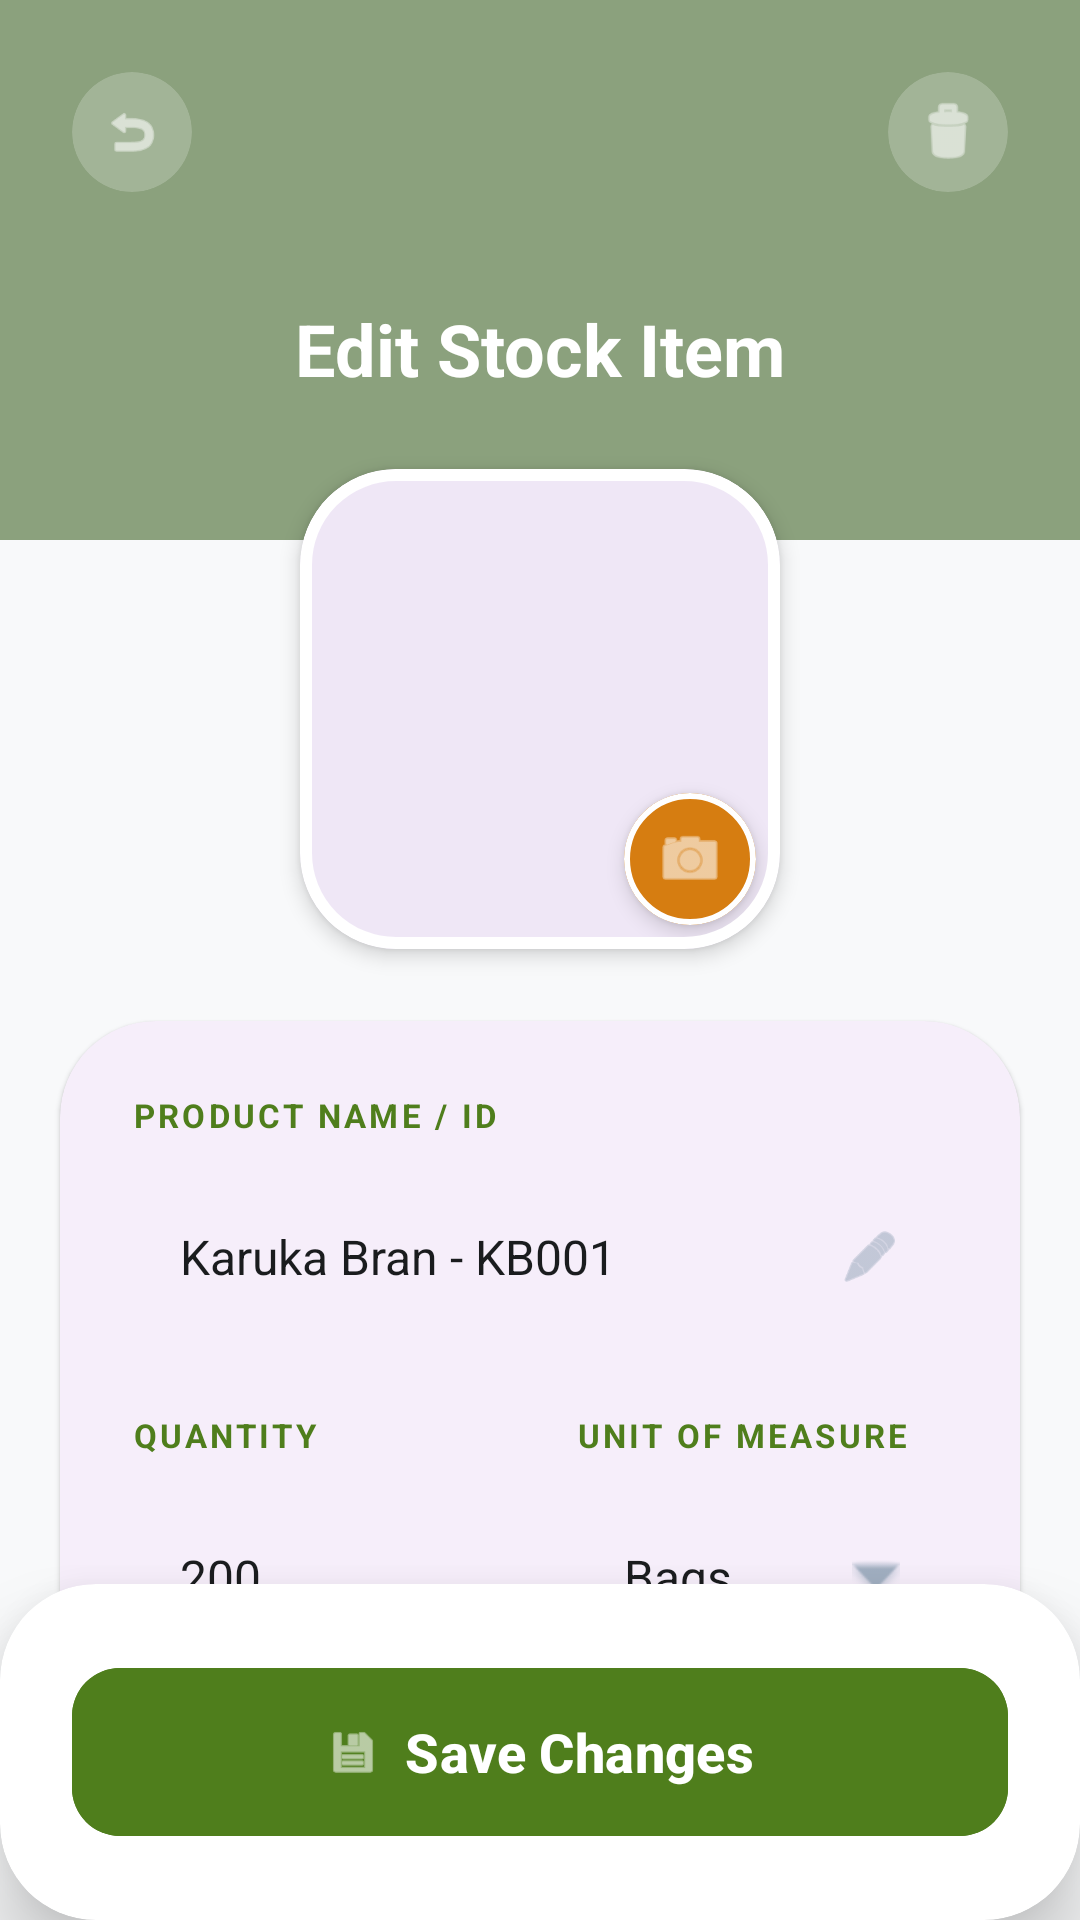

Icons on this 1080 × 1920 Android screen, each with its box as (x1, y1, x2, y2):
arrow down float: (852, 1563, 899, 1584)
camera: (624, 793, 756, 925)
delete: (889, 72, 1007, 192)
edit: (845, 1232, 895, 1282)
revert: (73, 72, 191, 192)
